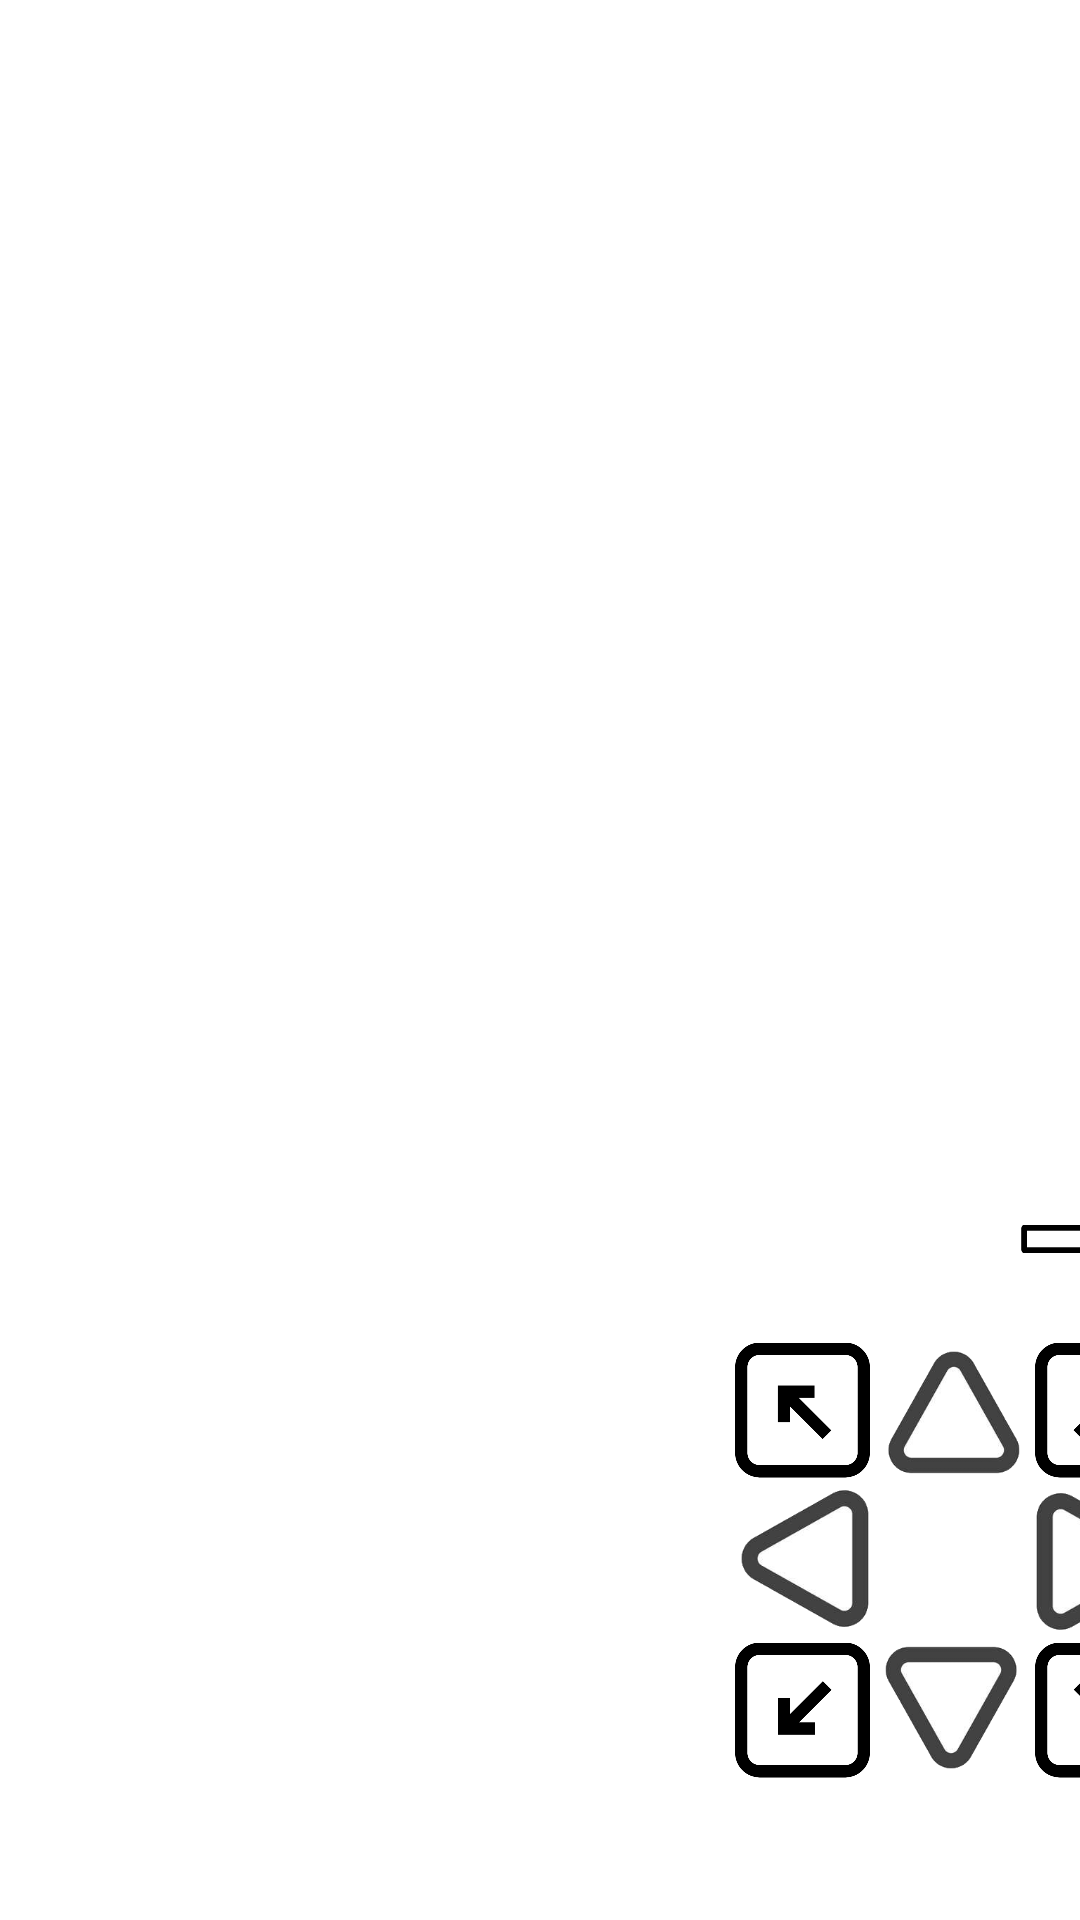

Screen size 1080*1920. Icon name, then its center in pixels as [x,y]:
back left: [802,1710]
downarrow: [951,1708]
forward left: [802,1410]
leftarrow: [805,1558]
uparrow: [954,1412]
